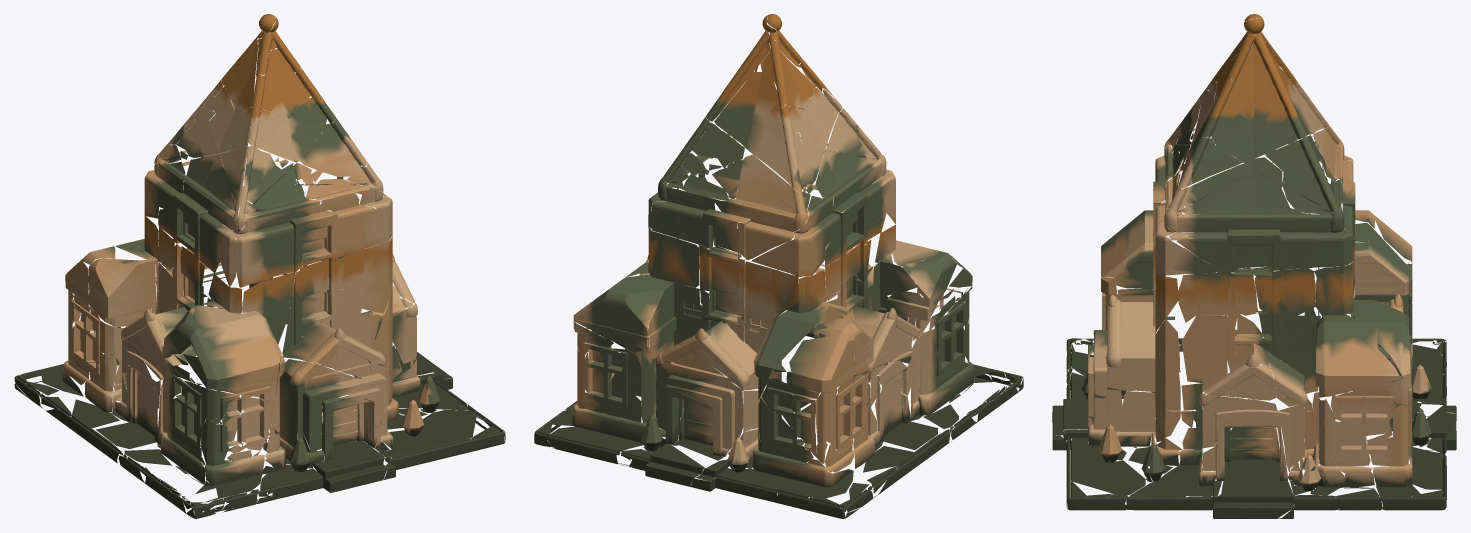
Rendered from hero-pyramid.glb.
3 views of the same model, side by side, from view 1: azimuth 30°, elevation 25°; view 2: azimuth 150°, elevation 25°; view 3: azimuth 270°, elevation 25° (orthographic). The views are drawn at different scales.
Parts seen in each view (by area): view 1: world; view 2: world; view 3: world.
Boxes of the visible parts, box(x1,y1,x2,y2) form: world: box(14, 14, 505, 518); world: box(534, 14, 1023, 518); world: box(1052, 14, 1456, 518).
Size of the model in its own units: 2.67 by 3.09 by 2.7.
